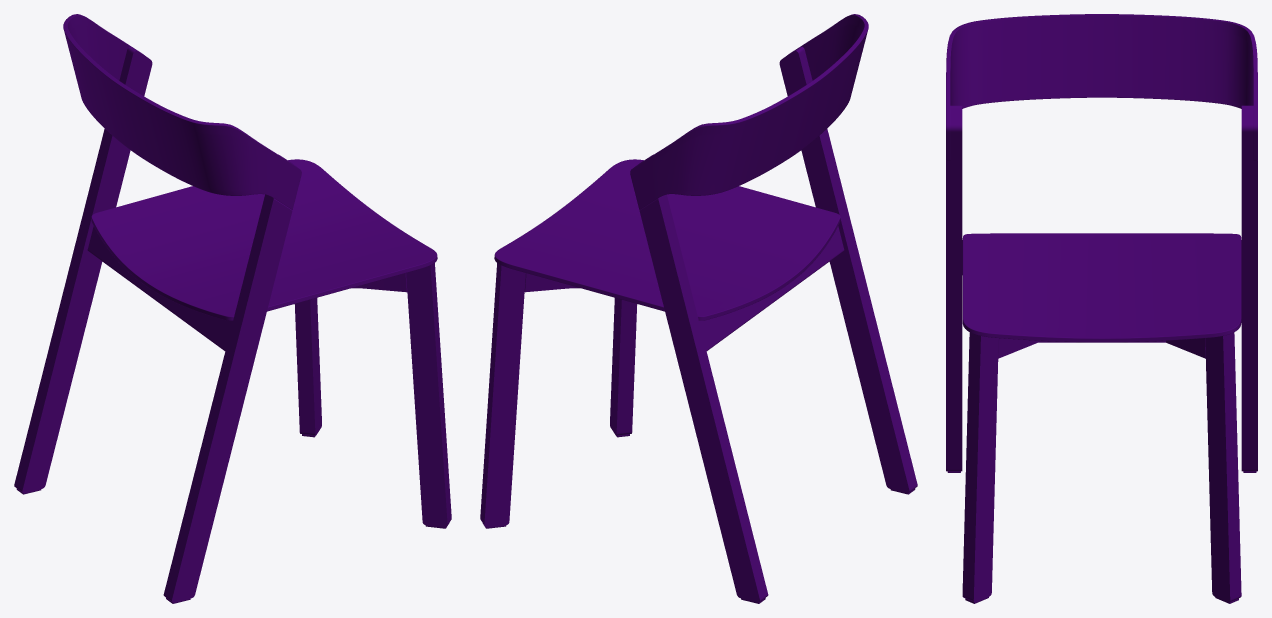
File: MeranoFBXASC032chair_chair002.fbx
3 views of the same model, side by side, from view 1: azimuth 30°, elevation 25°; view 2: azimuth 150°, elevation 25°; view 3: azimuth 270°, elevation 25° (orthographic).
Visible parts, largest first — view 1: Merano chair_chair002; view 2: Merano chair_chair002; view 3: Merano chair_chair002.
Boxes of the visible parts, box(x1,y1,x2,y2) form: Merano chair_chair002: box(14, 14, 451, 603); Merano chair_chair002: box(480, 14, 917, 603); Merano chair_chair002: box(946, 14, 1257, 603).
Bounding box in the file's own units: 52.25 × 78.97 × 48.55.
